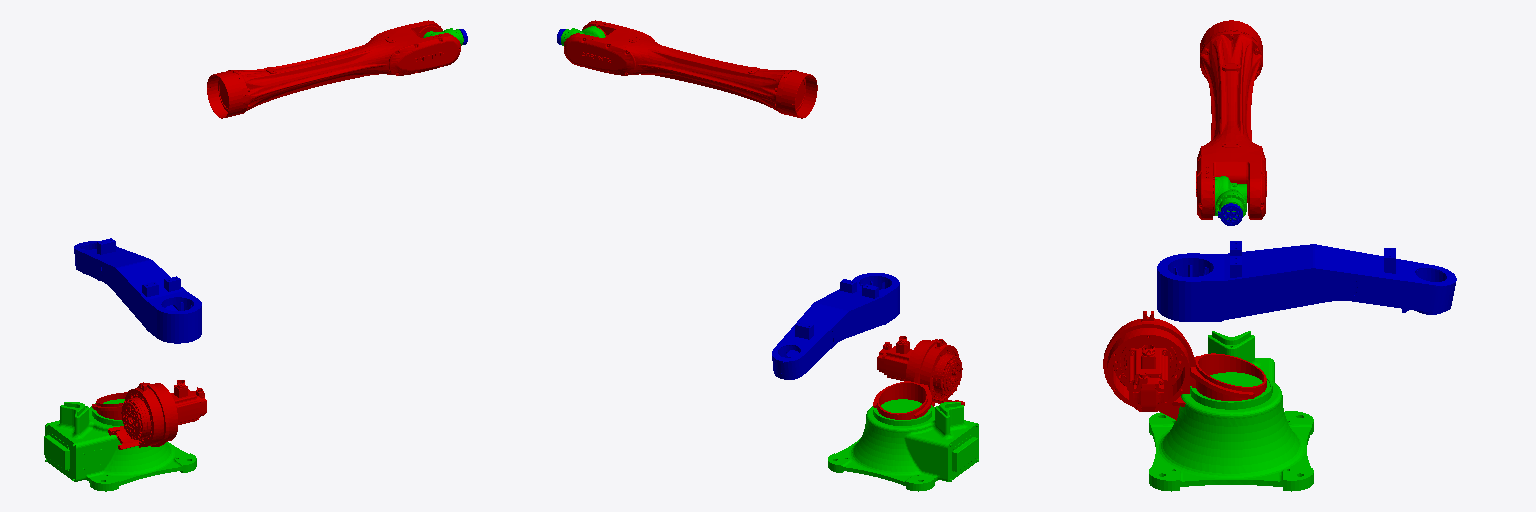
The robot description file, URDF, robot "BRTIRUS2110A":
<?xml version="1.0" ?>
<!-- =================================================================================== -->
<!-- |    This document was autogenerated by xacro from puma560_robot.urdf.xacro       | -->
<!-- |    EDITING THIS FILE BY HAND IS NOT RECOMMENDED                                 | -->
<!-- =================================================================================== -->
<robot name="BRTIRUS2110A" xmlns:xacro="http://www.ros.org/wiki/xacro">
  <material name="blue">
    <color rgba="0 0 0.8 0.8"/>
  </material>
  <material name="red">
    <color rgba="0.8 0 0 0.8"/>
  </material>
  <material name="green">
    <color rgba="0 0.8 0 0.8"/>
  </material>
  <!-- DH Paramaters -->
  <link name="link1">
    <visual>
      <geometry>
        <mesh filename="package://BRTIRUS2110A_description/meshes/base_link.stl"/>
      </geometry>
      <origin
        xyz="0 0 0"
        rpy="1.57079632679 0 3.14159265"/>
        <!-- rpy="1.57079632679 0 0"/> -->
      <material name="green"/>
    </visual>
  </link>
  <link name="link2">
    <visual>
      <geometry>
        <mesh filename="package://BRTIRUS2110A_description/meshes/link1.stl"/>
      </geometry>
      <origin
        rpy="1.57079632679 0 0" 
        xyz="0 0 0.2596"/>
      <material name="red"/>
    </visual>
  </link>
  <joint name="j1" type="revolute">
    <parent link="link1"/>
    <child link="link2"/>
    <origin 
      rpy="0 0 0" 
      xyz="0 0 0"/>
    <axis xyz="0 0 1"/>
    <!-- This is descibed in child frame -->
    <limit effort="1000.0" lower="-3.14159265" upper="3.14159265" velocity="0"/>
  </joint>
  <link name="link3">
    <visual>
      <geometry>
        <mesh filename="package://BRTIRUS2110A_description/meshes/link2.stl"/>
      </geometry>
      <origin 
        xyz="0 0 0"
        rpy="1.57079632679 0 0" />
      <material name="blue"/>
    </visual>
  </link>
  <joint name="j2" type="revolute">
    <parent link="link2"/>
    <child link="link3"/>
    <origin 
      rpy="0 0 0" 
      xyz="0.170 -0.103 0.4946"/>
    <axis xyz="0 1 0"/>
    <!-- This is descibed in child frame -->
    <limit effort="1000.0" lower="-1.570796325" upper="1.570796325" velocity="0"/>
  </joint>
  <link name="link4">
    <visual>
      <geometry>
        <mesh filename="package://BRTIRUS2110A_description/meshes/link3.stl"/>
      </geometry>
      <origin 
        rpy="1.57079632679 0 -1.57079632679" 
        xyz="0 0 0"/>
      <material name="green"/>
    </visual>
  </link>
  <joint name="j3" type="revolute">
    <parent link="link3"/>
    <child link="link4"/>
    <origin 
      rpy="0 0 0" 
      xyz="0 0.103 0.730"/>
    <axis xyz="0 1 0"/>
    <!-- This is descibed in child frame -->
    <limit effort="1000.0" lower="-1.570796325" upper="1.570796325" velocity="0"/>
  </joint>
  <link name="link5">
    <visual>
      <geometry>
        <mesh filename="package://BRTIRUS2110A_description/meshes/link4.stl"/>
      </geometry>
      <origin 
        rpy="3.14159265 0 3.14159265"
        xyz="0 0 0"/>
      <material name="red"/>
    </visual>
  </link>
  <joint name="j4" type="revolute">
    <parent link="link4"/>
    <child link="link5"/>
    <origin 
      rpy="0 0 0"
      xyz="0.2805 0 0.1"/>
    <axis xyz="1 0 0"/>
    <limit effort="1000.0" lower="-1.570796325" upper="1.570796325" velocity="0"/>
  </joint>
  <link name="link6">
    <visual>
      <geometry>
        <mesh filename="package://BRTIRUS2110A_description/meshes/link5.stl"/>
      </geometry>
      <origin 
        rpy="0 1.57079632679 0"
        xyz="0 0 0"/>
      <material name="green"/>
    </visual>
  </link>
  <joint name="j5" type="revolute">
    <parent link="link5"/>
    <child link="link6"/>
    <origin 
      rpy="1.57079632679 0 0"
      xyz="0.829 0 0"/>
    <axis xyz="0 0 1"/>
    <limit effort="1000.0" lower="-1.570796325" upper="1.570796325" velocity="0"/>
  </joint>
  <link name="link7">
    <visual>
      <geometry>
        <mesh filename="package://BRTIRUS2110A_description/meshes/link6.stl"/>
      </geometry>
      <origin 
        rpy="0 1.57079632679 0"
        xyz="0 0 0"/>
      <material name="blue"/>
    </visual>
  </link>
  <joint name="j6" type="revolute">
    <parent link="link6"/>
    <child link="link7"/>
    <origin 
      rpy="0 0 0"
      xyz="0.097 0 0"/>
    <axis xyz="1 0 0"/>
    <limit effort="1000.0" lower="-3.14159265359" upper="3.14159265359" velocity="0"/>
  </joint>
  <!-- <link name="link_gripper_body">
    <visual>
      <geometry>
        <mesh filename="package://BRTIRUS2110A_description/meshes/gripper_body.stl"/>
      </geometry>
      <origin 
        rpy="3.14159265359 0 0"
        xyz="0 0 0.206"/>
      <material name="blue"/>
    </visual>
  </link>
  <joint name="j7" type="fixed">
    <parent link="link7"/>
    <child link="link_gripper_body"/>
    <origin 
      rpy="0 0 0"
      xyz="0 0 -0.206"/>
  </joint>
  <link name="link_finger_u">
    <visual>
      <geometry>
        <mesh filename="package://BRTIRUS2110A_description/meshes/gripper_finger_u.stl"/>
      </geometry>
      <origin 
        rpy="3.14159265359 0 0"
        xyz="0 0 0.206"/>
      <material name="blue"/>
    </visual>
  </link>
  <joint name="j_gripper_finger_u" type="prismatic">
    <parent link="link_gripper_body"/>
    <child link="link_finger_u"/>
    <origin 
      rpy="0 0 0"
      xyz="0 0 0"/>
    <axis xyz="1 0 0"/>
    <limit effort="1000.0" lower="0" upper="0.03" velocity="0"/>
  </joint>
  <link name="link_finger_b">
    <visual>
      <geometry>
        <mesh filename="package://BRTIRUS2110A_description/meshes/gripper_finger_b.stl"/>
      </geometry>
      <origin 
        rpy="3.14159265359 0 0"
        xyz="0 0 0.206"/>
      <material name="blue"/>
    </visual>
  </link>
  <joint name="j_gripper_finger_b" type="prismatic">
    <parent link="link_gripper_body"/>
    <child link="link_finger_b"/>
    <origin 
      rpy="0 0 0"
      xyz="0 0 0"/>
    <axis xyz="-1 0 0"/>
    <limit effort="1000.0" lower="0" upper="0.03" velocity="0"/>
  </joint> -->
</robot>

--- Facts derived from the render (not from the file) ---
Views: 3 orthographic renders of the robot side by side, from view 1: azimuth 30°, elevation 25°; view 2: azimuth 150°, elevation 25°; view 3: azimuth 270°, elevation 25°.
Robot: BRTIRUS2110A — 7 links, 6 joints (6 revolute); root link link1; default pose: every joint at zero.
Visible links, largest first — view 1: link5, link1, link3, link2; view 2: link5, link1, link3, link2; view 3: link3, link1, link5, link2, link6.
Link boxes in pixels (x1,y1,x2,y2): link5: [207, 20, 460, 118]; link1: [44, 399, 196, 491]; link3: [74, 238, 201, 343]; link2: [92, 380, 206, 449]; link5: [564, 20, 817, 118]; link1: [828, 399, 978, 491]; link3: [772, 273, 899, 379]; link2: [873, 336, 964, 419]; link3: [1157, 241, 1456, 321]; link1: [1149, 331, 1313, 491]; link5: [1196, 20, 1266, 219]; link2: [1103, 311, 1266, 420]; link6: [1215, 176, 1246, 219].
Size in the robot's own frame: 1.67 by 0.8969 by 1.41 metres.
6 mesh visuals loaded from 7 distinct referenced files (6 binary STL); not drawn: 1 (reference not matched to a file when rendering).